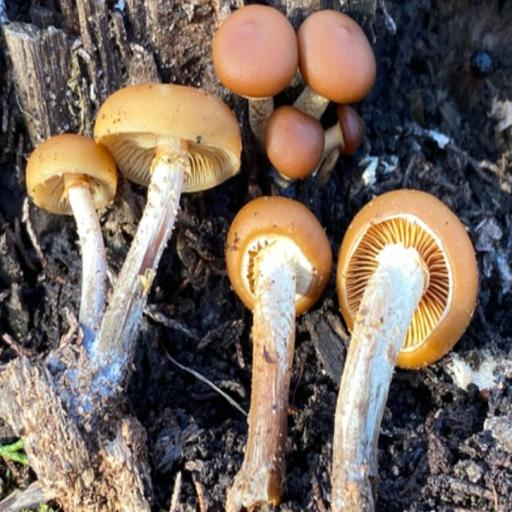Funeral Bell: (224, 185, 485, 512), (23, 85, 242, 429), (213, 1, 381, 188)
